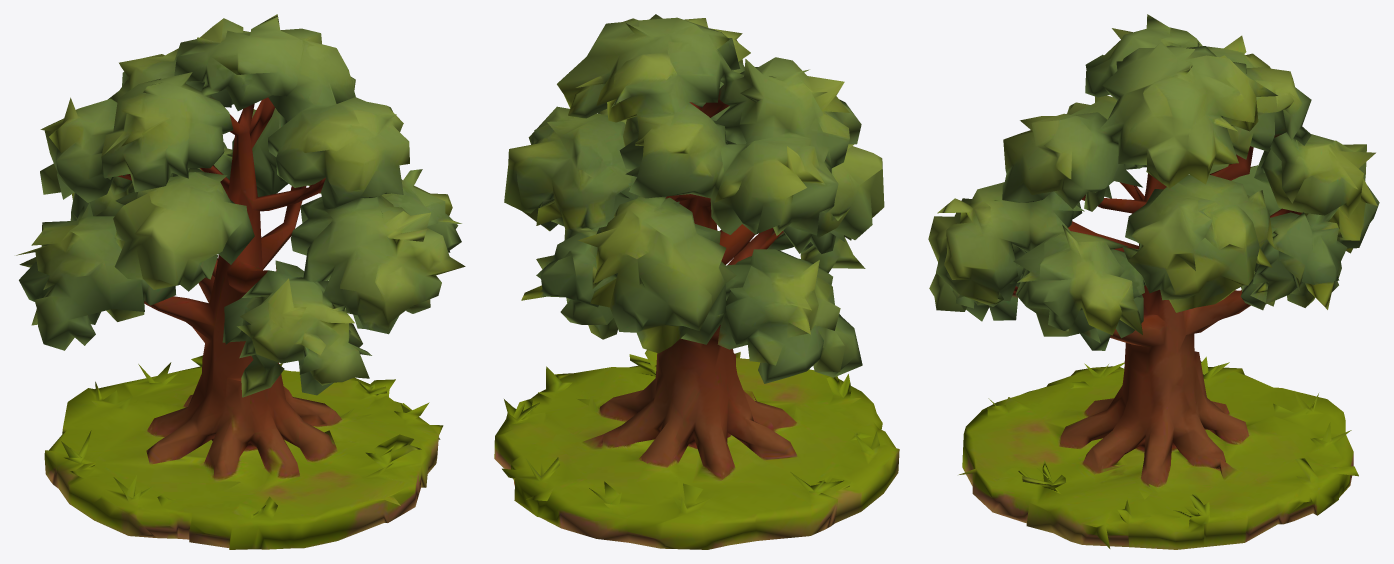
Rendered from tree_oak.glb.
3 views of the same model, side by side, from view 1: azimuth 30°, elevation 25°; view 2: azimuth 150°, elevation 25°; view 3: azimuth 270°, elevation 25° (orthographic). The views are drawn at different scales.
Visible parts, largest first — view 1: tripo_node_5366c039-cd54-4f33-b694-03e8887a26bb; view 2: tripo_node_5366c039-cd54-4f33-b694-03e8887a26bb; view 3: tripo_node_5366c039-cd54-4f33-b694-03e8887a26bb.
Part boxes in pixels (x1,y1,x2,y2): tripo_node_5366c039-cd54-4f33-b694-03e8887a26bb: (16, 14, 465, 549); tripo_node_5366c039-cd54-4f33-b694-03e8887a26bb: (494, 14, 899, 549); tripo_node_5366c039-cd54-4f33-b694-03e8887a26bb: (928, 14, 1379, 549).
Size of the model in its own units: 0.8809 by 1 by 0.9569.
Materials: 1 (1 with a texture image).
